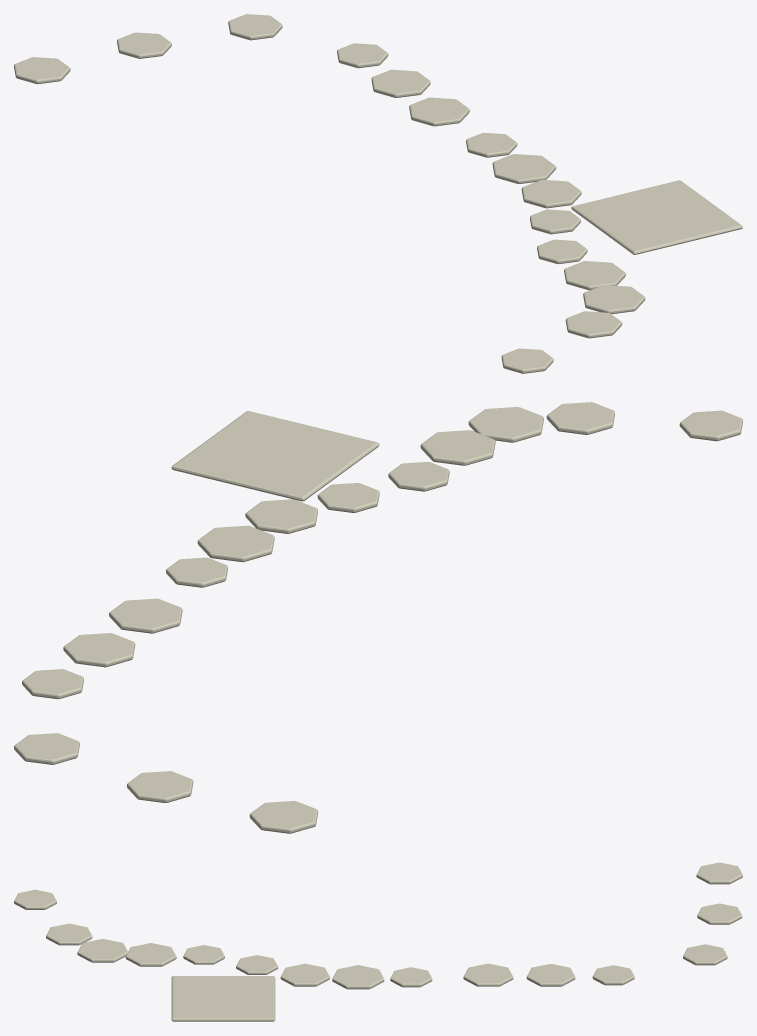
The model's file is SM_RelaxedNeighborHouse_Pathways.fbx.
3 views of the same model, one above another, from view 1: azimuth 30°, elevation 25°; view 2: azimuth 150°, elevation 25°; view 3: azimuth 270°, elevation 25° (orthographic). The views are drawn at different scales.
Parts seen in each view (by area): view 1: SM_RelaxedNeighborHouse_Pathways; view 2: SM_RelaxedNeighborHouse_Pathways; view 3: SM_RelaxedNeighborHouse_Pathways.
Part boxes in pixels (x1=…): SM_RelaxedNeighborHouse_Pathways: x1=14, y1=14, x2=742, y2=373; SM_RelaxedNeighborHouse_Pathways: x1=14, y1=402, x2=742, y2=833; SM_RelaxedNeighborHouse_Pathways: x1=14, y1=862, x2=742, y2=1021.
Size of what is drawn, in the model's own units: 767 by 1513 by 9.
